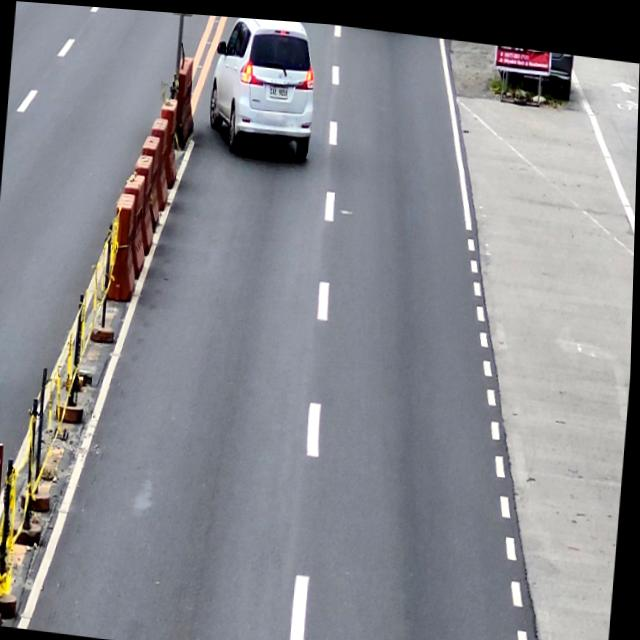Car: (206, 12, 321, 157)
License-Plate: (269, 80, 288, 96)
